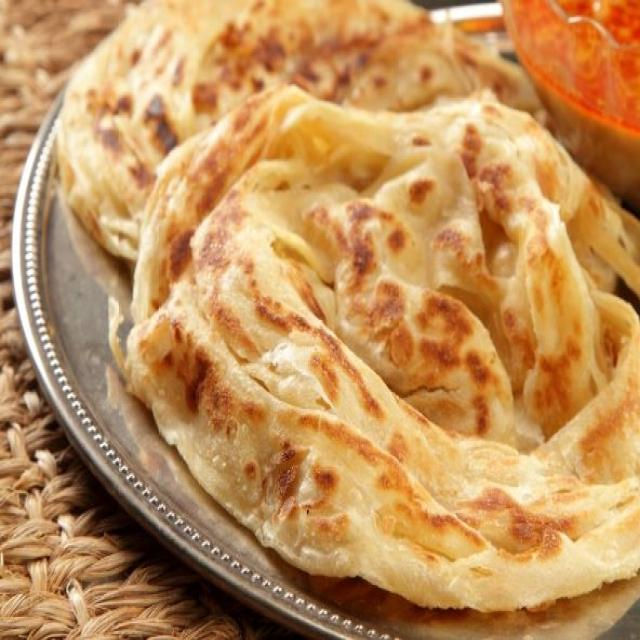Paratha: (147, 0, 629, 572)
